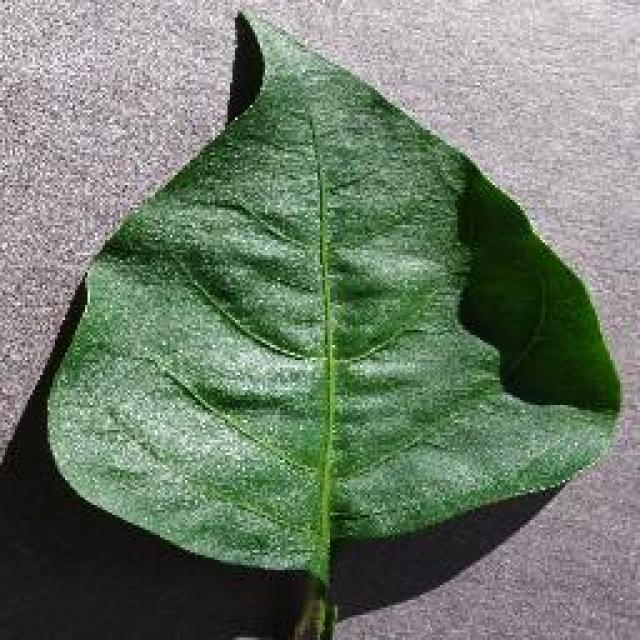Leaf: (43, 19, 605, 625)
